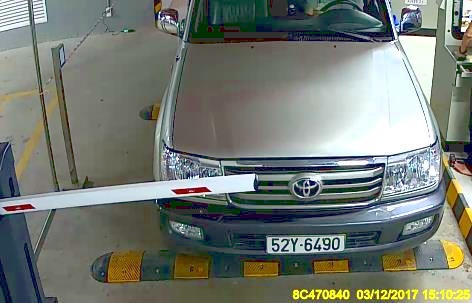plate: (267, 231, 347, 254)
